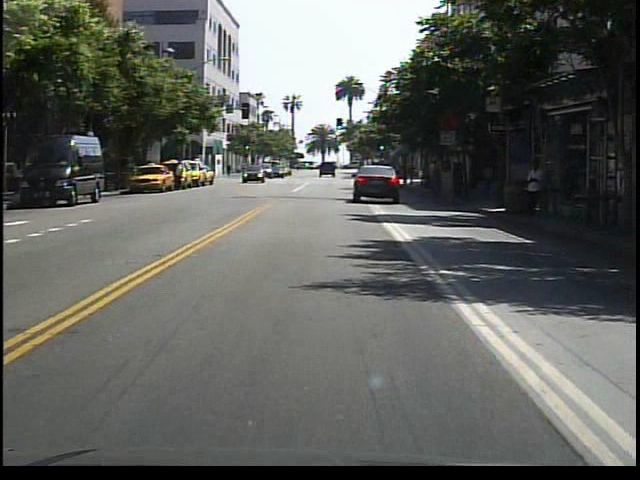person: (523, 152, 555, 224), (173, 158, 187, 195)
